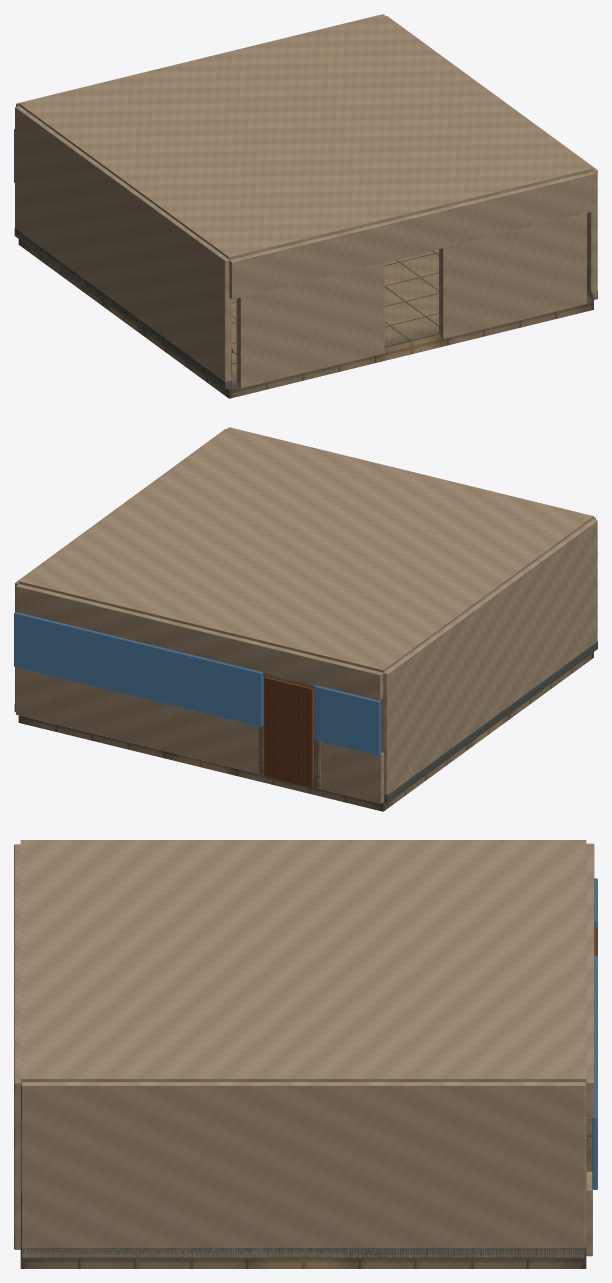
The model's file is matter-workshop.glb.
The picture shows the model from 3 angles, top to bottom: view 1: azimuth 30°, elevation 25°; view 2: azimuth 150°, elevation 25°; view 3: azimuth 270°, elevation 25°; orthographic projection. The views are drawn at different scales.
Parts seen in each view (by area): view 1: Surface · Warm ivory mineral plaster, Surface · Honed limestone floor with fixture bounce, Surface · Basalt stair and skirting; view 2: Surface · Warm ivory mineral plaster, Surface · Dusk window glass, Surface · Oiled oak casework, Surface · Honed limestone floor with fixture bounce, Surface · Basalt stair and skirting, Surface · Honed limestone; view 3: Surface · Warm ivory mineral plaster, Surface · Honed limestone floor with fixture bounce, Surface · Basalt stair and skirting, Surface · Dusk window glass.
Boxes of the visible parts, box(x1,y1,x2,y2) form: Surface · Warm ivory mineral plaster: box(15, 14, 597, 388); Surface · Honed limestone floor with fixture bounce: box(18, 239, 593, 398); Surface · Basalt stair and skirting: box(14, 228, 597, 389); Surface · Warm ivory mineral plaster: box(15, 427, 597, 803); Surface · Dusk window glass: box(14, 612, 381, 755); Surface · Oiled oak casework: box(264, 676, 313, 787); Surface · Honed limestone floor with fixture bounce: box(18, 652, 593, 811); Surface · Basalt stair and skirting: box(14, 641, 597, 802); Surface · Honed limestone: box(258, 672, 383, 788); Surface · Warm ivory mineral plaster: box(14, 840, 594, 1257); Surface · Honed limestone floor with fixture bounce: box(20, 1258, 586, 1268); Surface · Basalt stair and skirting: box(20, 1247, 586, 1258); Surface · Dusk window glass: box(592, 878, 597, 1189).
Bounding box in the file's own units: 12.29 × 4.45 × 12.4.
13 materials, 4 textured.
